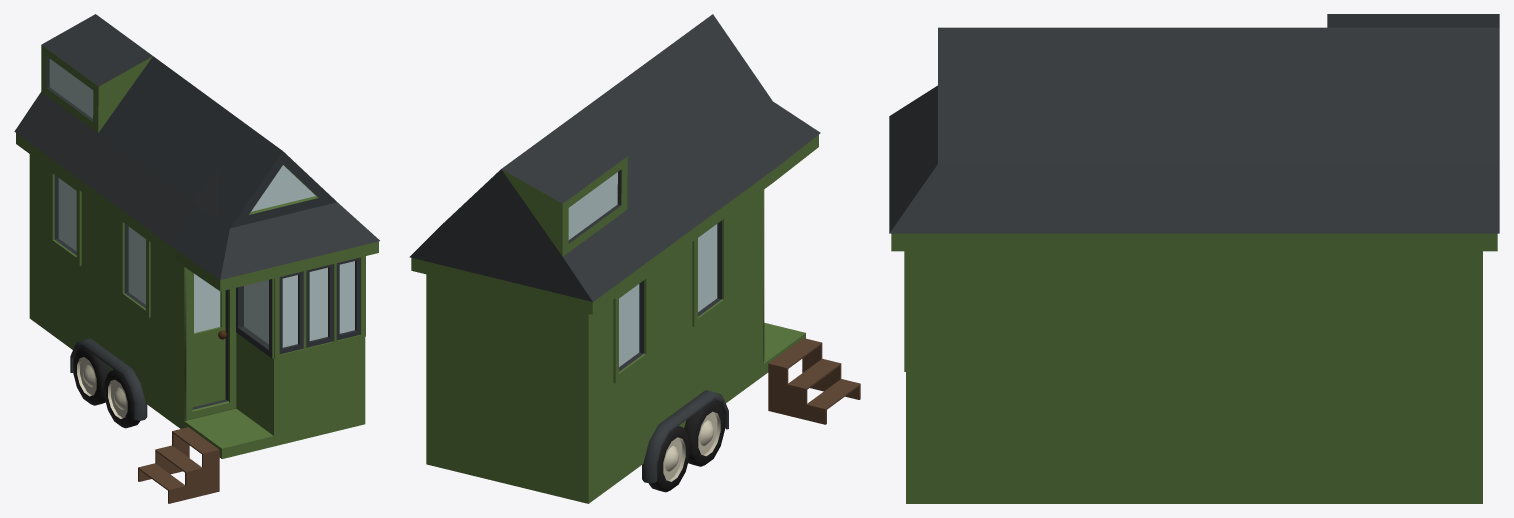
Rendered from tinyHouse.fbx.
3 renders of one model, left to right at view 1: azimuth 30°, elevation 25°; view 2: azimuth 150°, elevation 25°; view 3: azimuth 270°, elevation 25°, orthographic. The views are drawn at different scales.
Parts seen in each view (by area): view 1: tinyHome; view 2: tinyHome; view 3: tinyHome.
Boxes of the visible parts, bbox=[...] form: tinyHome: bbox=[14, 14, 379, 503]; tinyHome: bbox=[409, 14, 860, 503]; tinyHome: bbox=[889, 14, 1499, 503].
Size of the model in its own units: 4.64 by 6.91 by 8.04.
